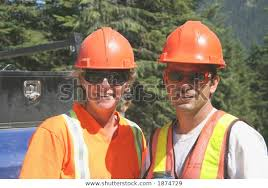Person_wearing_helmet: (155, 17, 226, 84), (66, 26, 144, 81)
